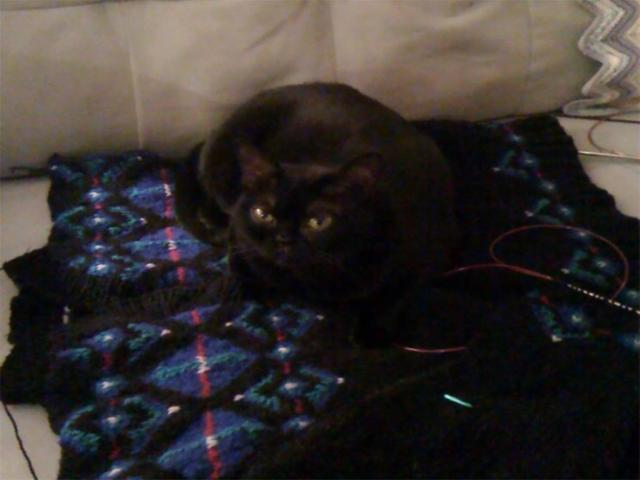Cat: (174, 77, 457, 304)
